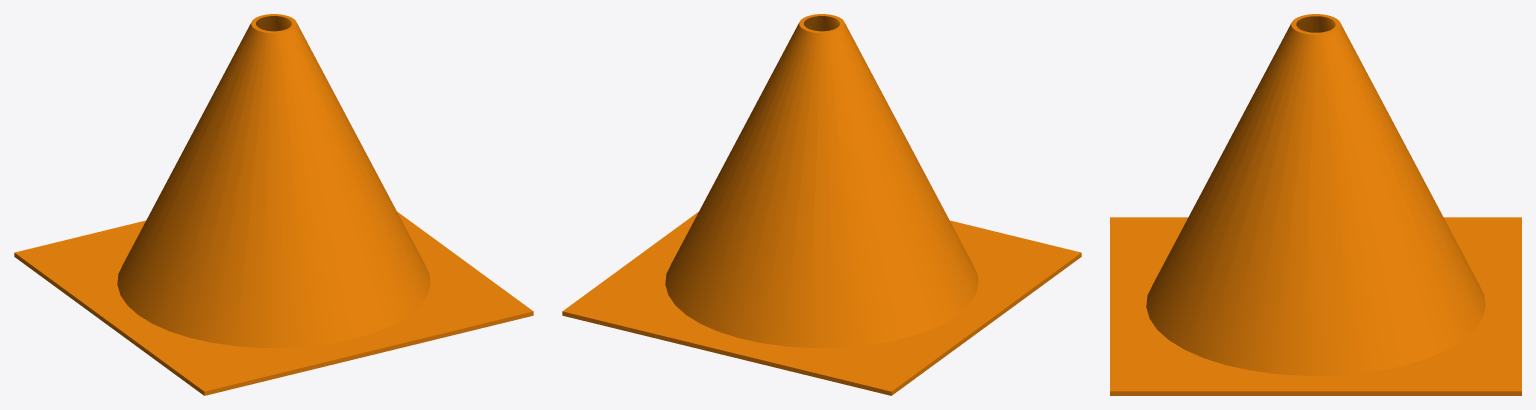
Rendered from orange_cone.dae.
3 renders of one model, left to right at view 1: azimuth 30°, elevation 25°; view 2: azimuth 150°, elevation 25°; view 3: azimuth 270°, elevation 25°, orthographic. The views are drawn at different scales.
Parts seen in each view (by area): view 1: ID2; view 2: ID2; view 3: ID2.
Part boxes in pixels (<box>): ID2: <box>14,14,533,395</box>; ID2: <box>562,14,1081,395</box>; ID2: <box>1110,14,1521,395</box>.
Bounding box in the file's own units: 0.4 × 0.4 × 0.305.
